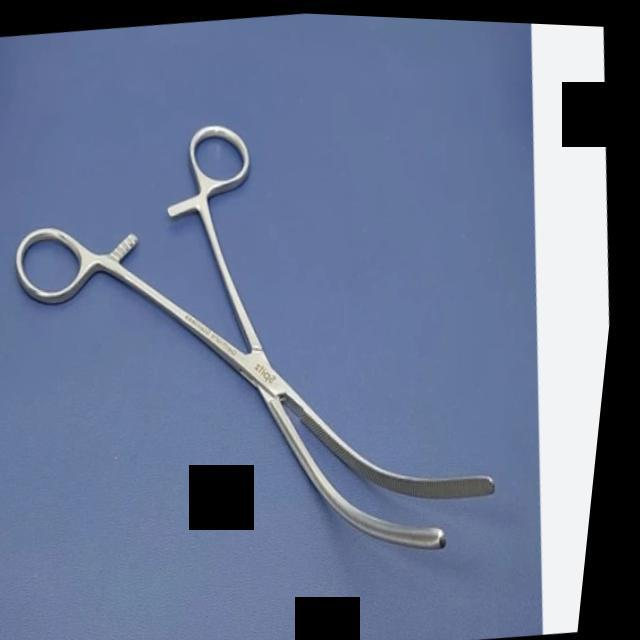Doyel Instestinal Forceps: (0, 76, 545, 600)
